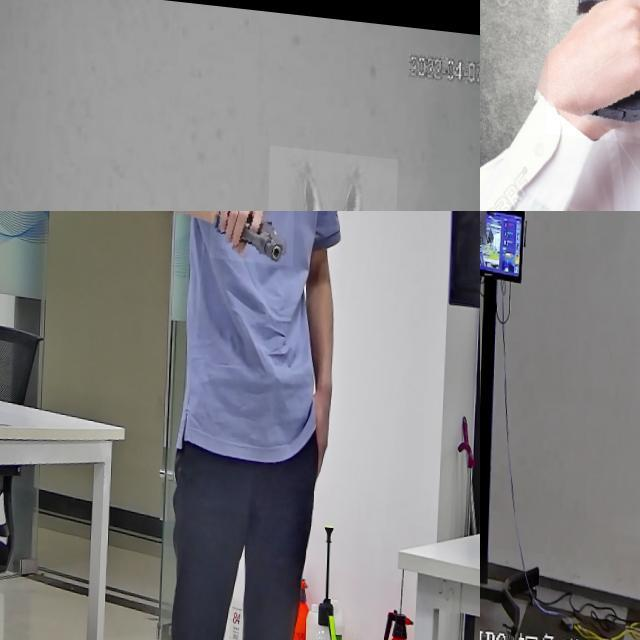gun-knife-thesis - v11 Yolov5 augmented: (549, 0, 640, 148), (210, 211, 295, 258), (480, 211, 500, 249)
